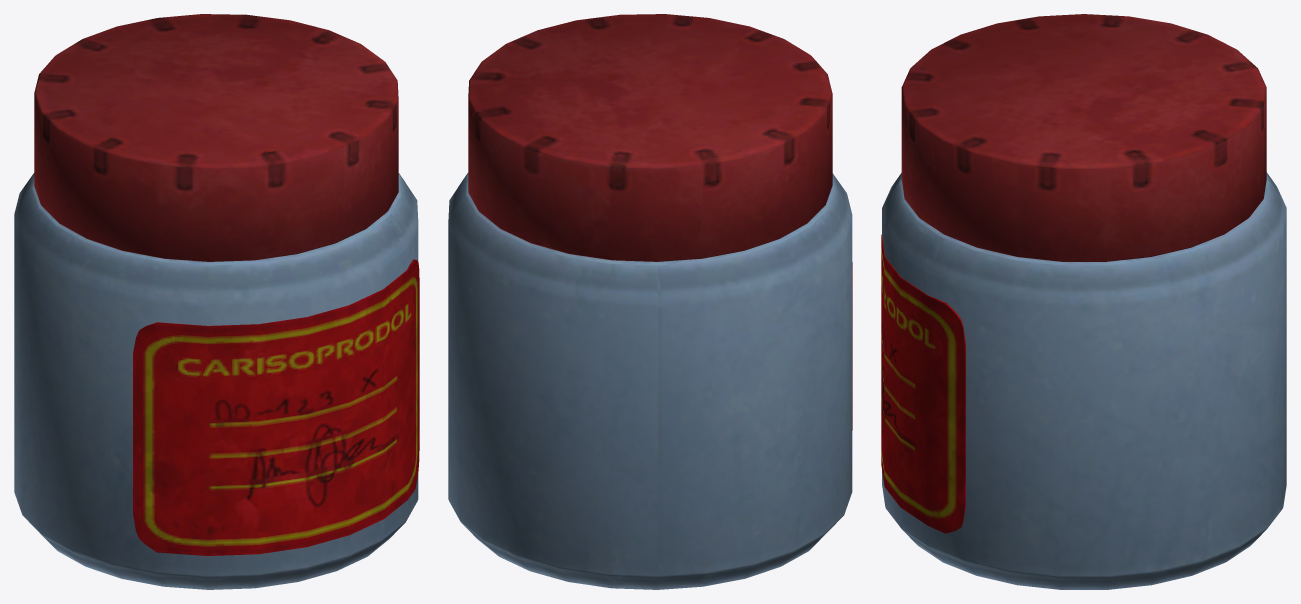
File: medicine_bottle_carsio.DAE
3 views of the same model, side by side, from view 1: azimuth 30°, elevation 25°; view 2: azimuth 150°, elevation 25°; view 3: azimuth 270°, elevation 25° (orthographic).
Parts seen in each view (by area): view 1: medicine_bottle_carsio_cap_label, medicine_bottle_carsio_bottle; view 2: medicine_bottle_carsio_bottle, medicine_bottle_carsio_cap_label; view 3: medicine_bottle_carsio_bottle, medicine_bottle_carsio_cap_label.
Boxes of the visible parts, left/top/right/bottom form: medicine_bottle_carsio_cap_label: left=34, top=14, right=419, bottom=555; medicine_bottle_carsio_bottle: left=14, top=173, right=418, bottom=589; medicine_bottle_carsio_bottle: left=448, top=173, right=852, bottom=589; medicine_bottle_carsio_cap_label: left=468, top=14, right=852, bottom=430; medicine_bottle_carsio_bottle: left=882, top=172, right=1286, bottom=589; medicine_bottle_carsio_cap_label: left=881, top=14, right=1266, bottom=533.
Bounding box in the file's own units: 0.2375 × 0.2742 × 0.2384.
